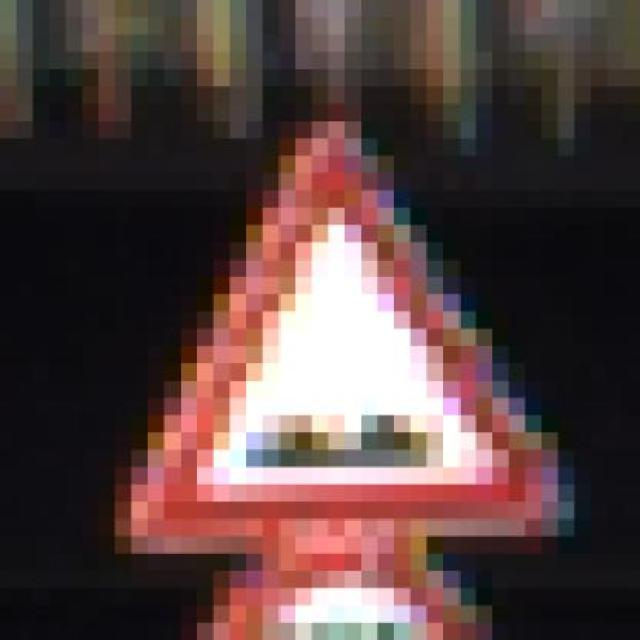Uneven Road: (115, 69, 574, 554)
